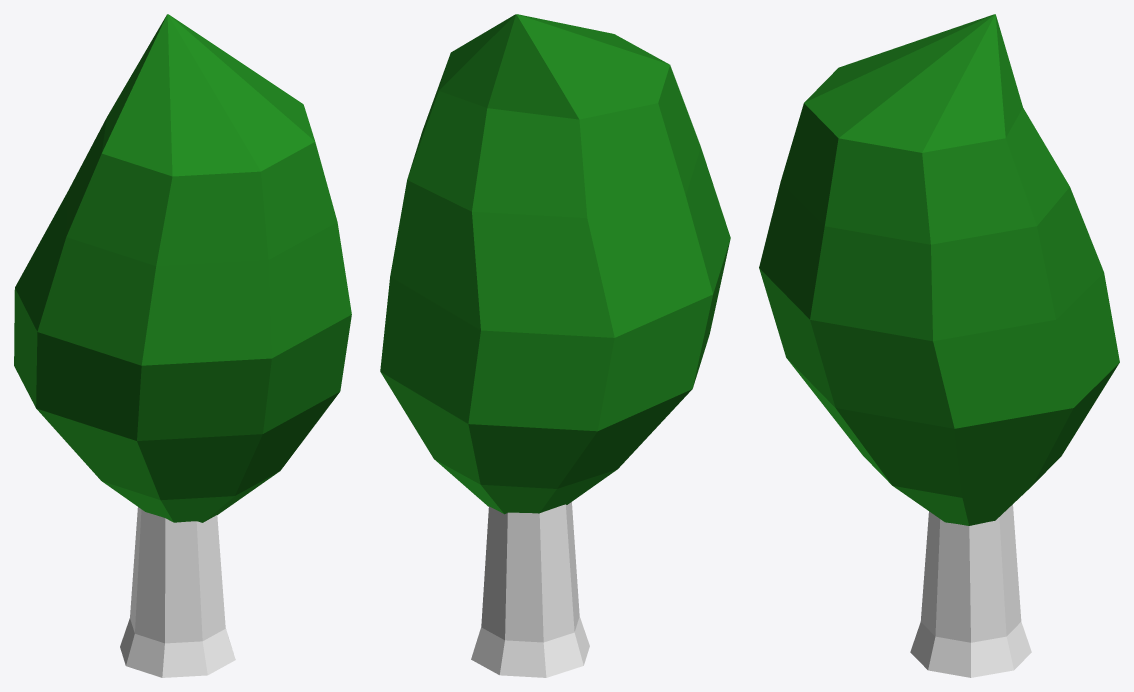
Rendered from decidiousTree02.glb.
3 renders of one model, left to right at view 1: azimuth 30°, elevation 25°; view 2: azimuth 150°, elevation 25°; view 3: azimuth 270°, elevation 25°, orthographic. The views are drawn at different scales.
Parts seen in each view (by area): view 1: Cylinder.001, Cylinder; view 2: Cylinder.001, Cylinder; view 3: Cylinder.001, Cylinder.
Part boxes in pixels (x1,y1,x2,y2): Cylinder.001: (14, 14, 351, 522); Cylinder: (120, 14, 235, 677); Cylinder.001: (380, 14, 730, 514); Cylinder: (471, 14, 589, 677); Cylinder.001: (759, 14, 1119, 525); Cylinder: (910, 14, 1031, 677).
Size of the model in its own units: 5.07 by 10.27 by 5.26.
